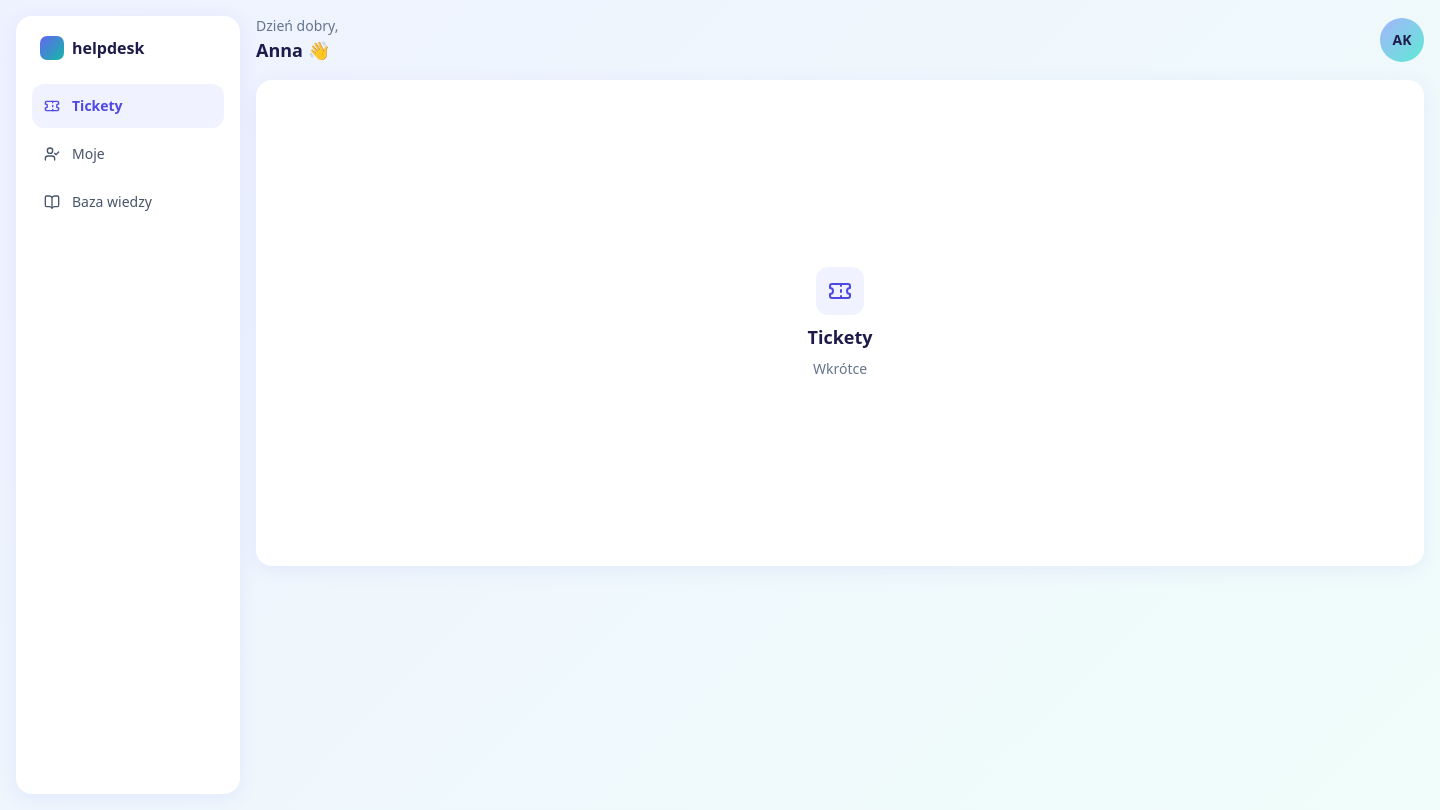
AppShell › logs out via the avatar menu
Click the button with aria-label "Menu użytkownika": (1402, 40) 1380,18 -> 1424,62
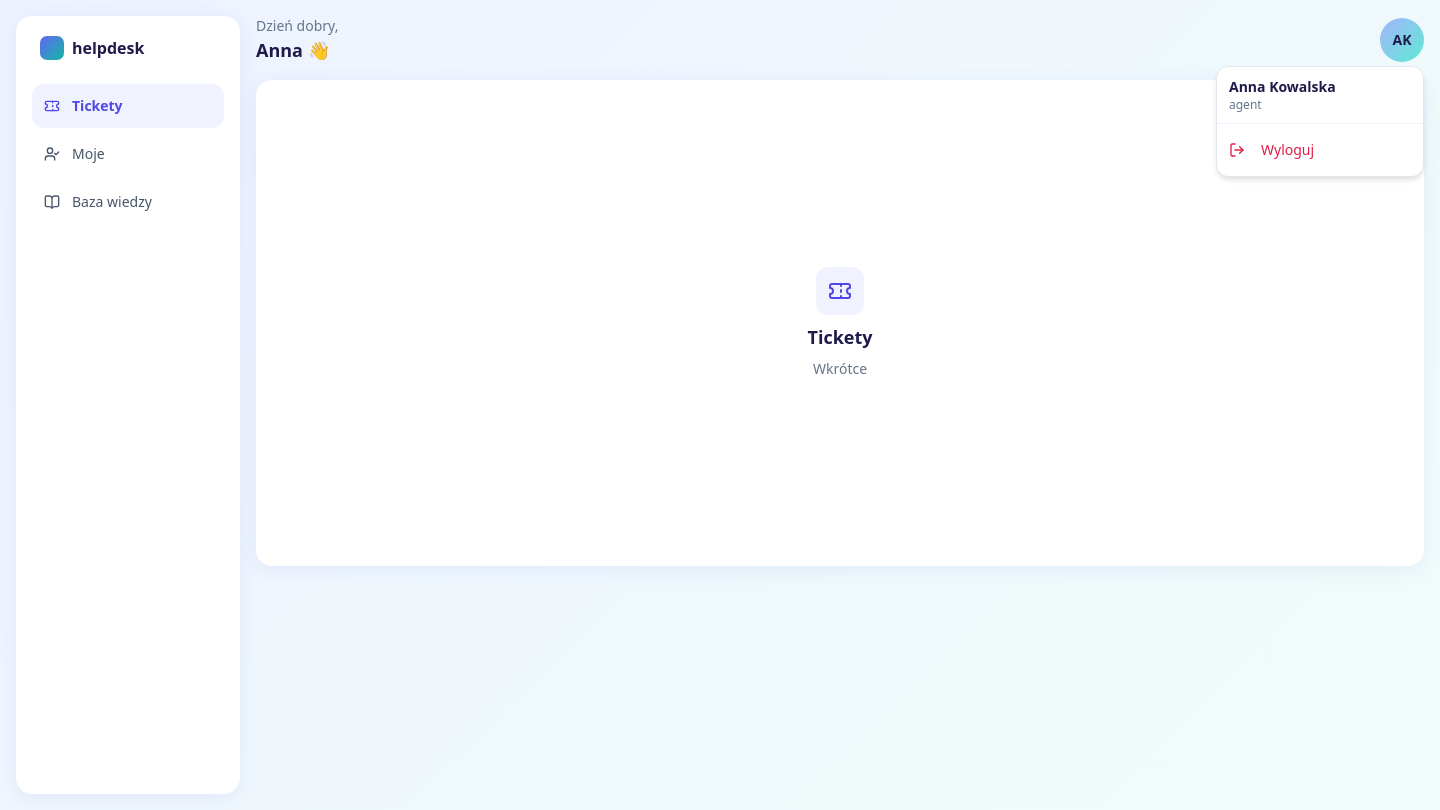
Click the menu item "Wyloguj": (1272, 150) 1229,140 -> 1314,159
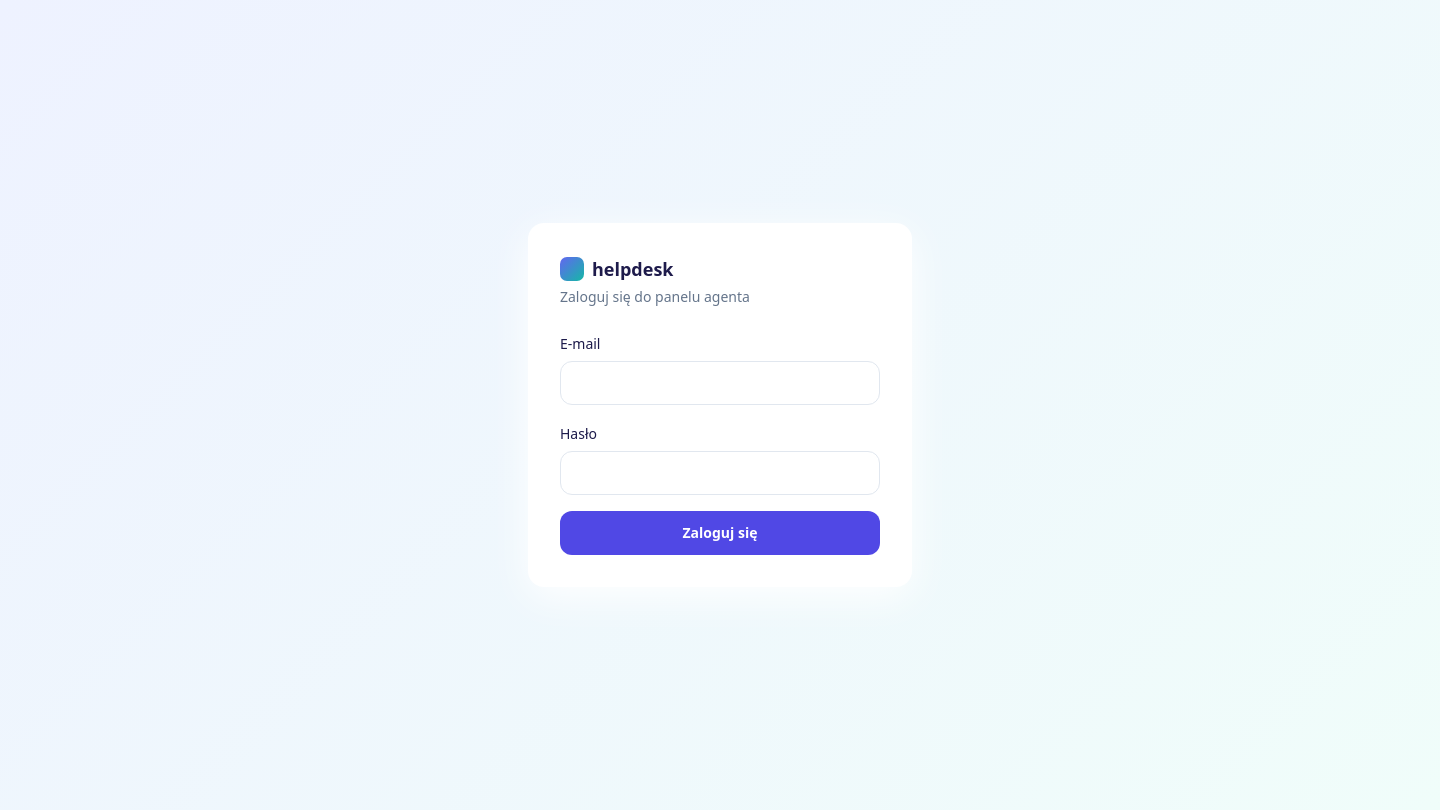
Result: the button "Zaloguj się" is shown at 560,511 -> 880,555
